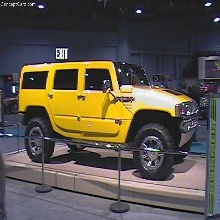no damage: (19, 62, 199, 181)
